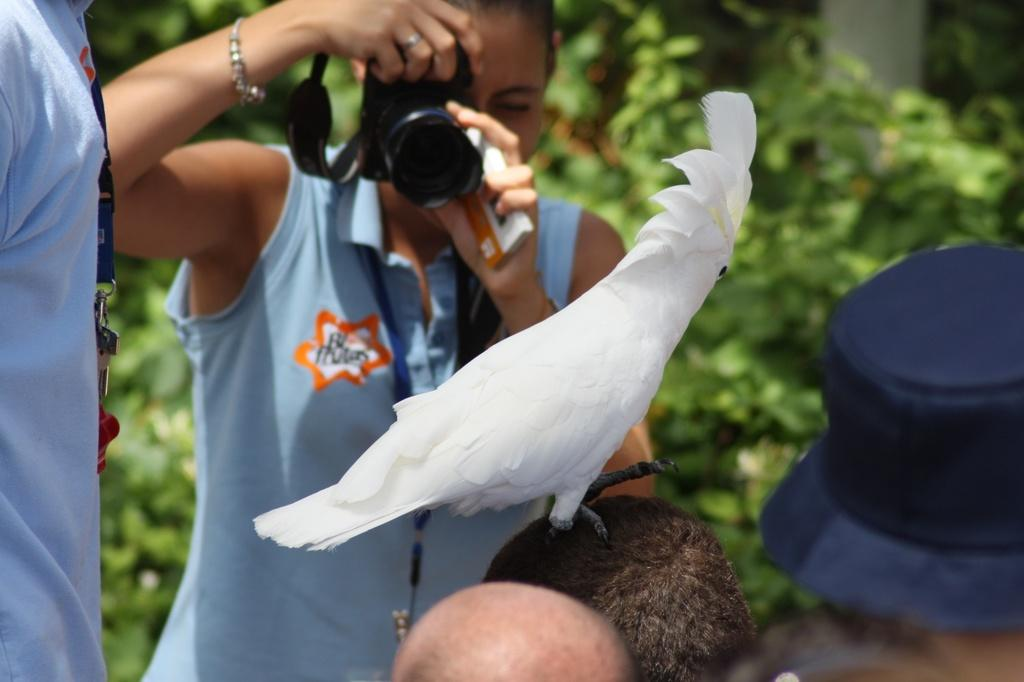Hat: (758, 242, 1022, 628)
